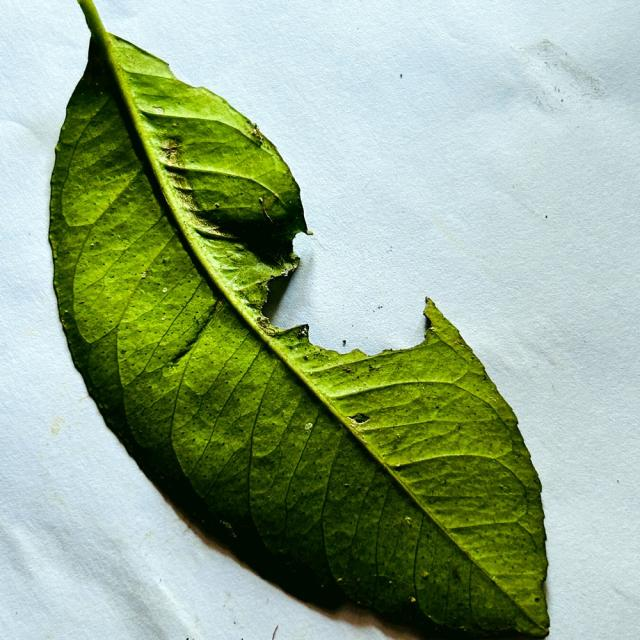Deficiency Leaf: (263, 213, 474, 355)
Lemon: (49, 3, 548, 637)
